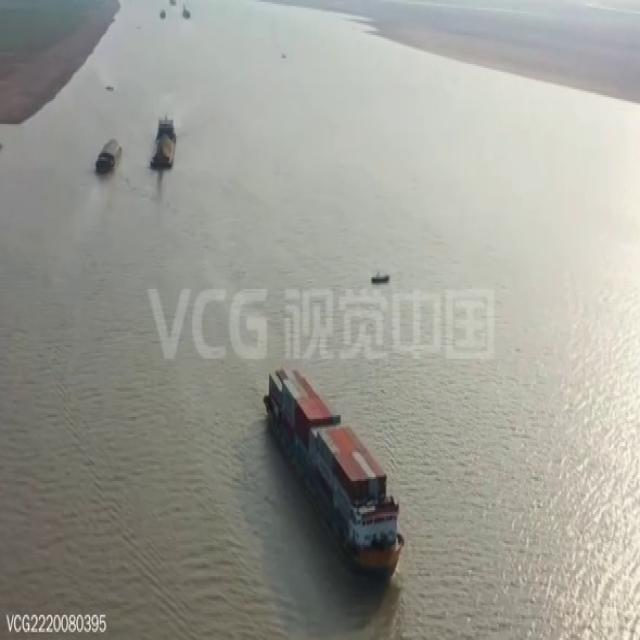cargoship: (249, 332, 401, 546)
